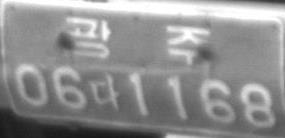0: (14, 61, 50, 107)
1: (160, 73, 191, 119), (123, 71, 152, 116)
6: (198, 77, 236, 123), (52, 65, 86, 109)
8: (238, 81, 276, 129)
광주_D: (64, 14, 212, 65)
다: (88, 72, 120, 109)
